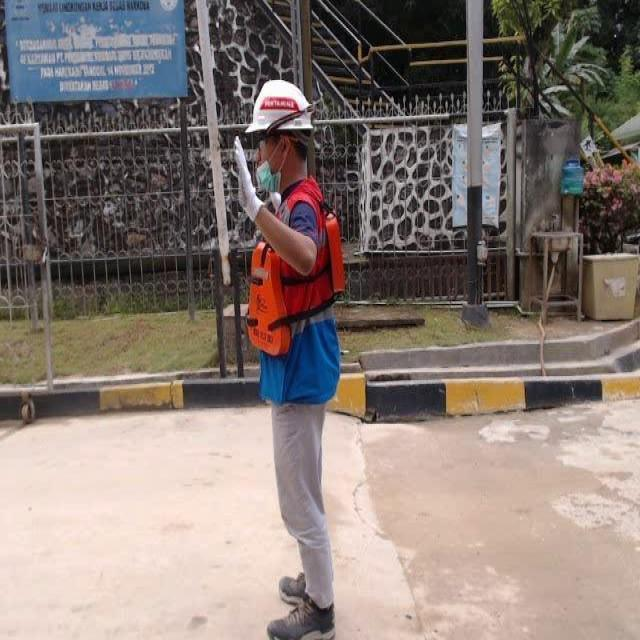Vest: (246, 219, 357, 353)
